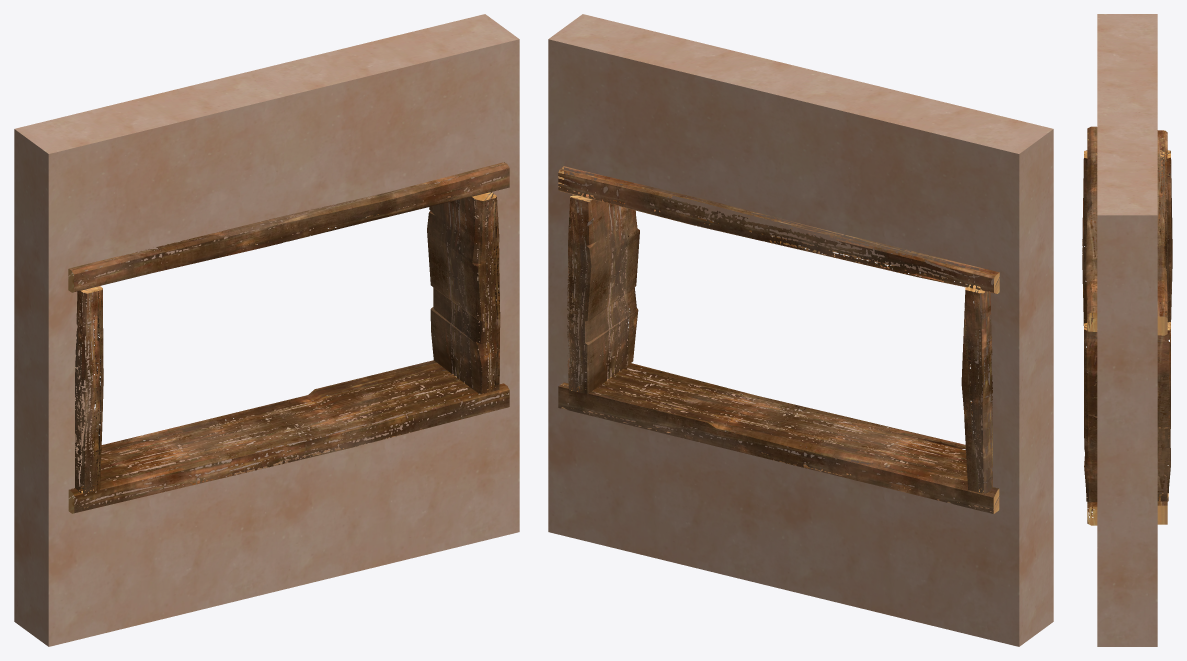
3 renders of one model, left to right at view 1: azimuth 30°, elevation 25°; view 2: azimuth 150°, elevation 25°; view 3: azimuth 270°, elevation 25°, orthographic. The views are drawn at different scales.
Parts seen in each view (by area): view 1: SM_BB_T4_Wall_Windowframe_Double_02_LOD0; view 2: SM_BB_T4_Wall_Windowframe_Double_02_LOD0; view 3: SM_BB_T4_Wall_Windowframe_Double_02_LOD0.
Boxes of the visible parts, x1,y1,x2,y2 form: SM_BB_T4_Wall_Windowframe_Double_02_LOD0: (14, 14, 519, 646); SM_BB_T4_Wall_Windowframe_Double_02_LOD0: (548, 14, 1053, 646); SM_BB_T4_Wall_Windowframe_Double_02_LOD0: (1082, 14, 1172, 646).
Size of the model in its own units: 3 by 3 by 0.5701.
2 materials, 2 textured.
